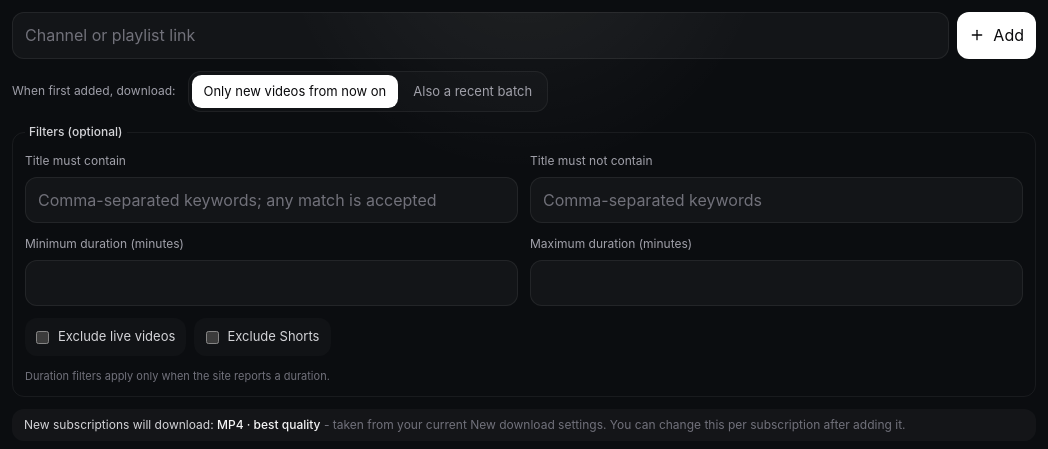
Test: AddSubscriptionForm › offers a back-fill count only when back-filling
Expected: the field labelled "how many" is not shown
Click the radio button labelled "Also a recent batch".
click(473, 91)  # box [401,75,544,108]
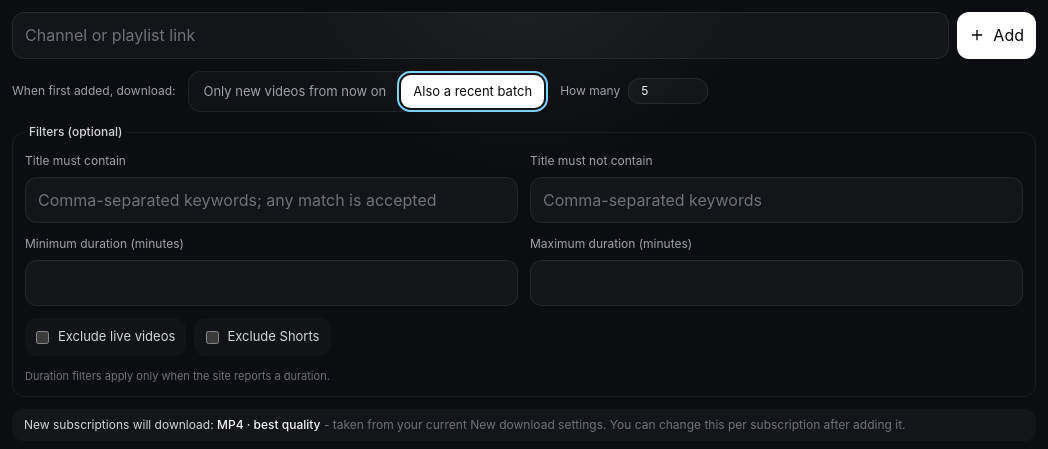
Now the number field labelled "How many" is shown, box [628,78,708,104]
